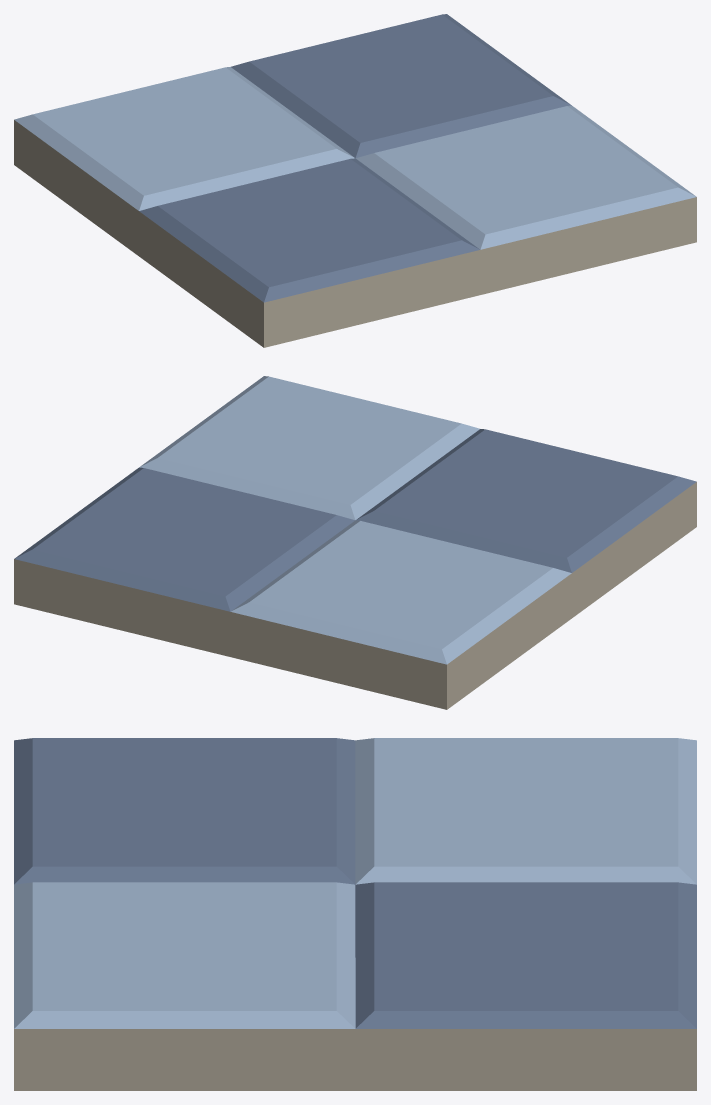
File: Mesh_GroundCeramic_N1.fbx
The picture shows the model from 3 angles, top to bottom: view 1: azimuth 30°, elevation 25°; view 2: azimuth 150°, elevation 25°; view 3: azimuth 270°, elevation 25°; orthographic projection. The views are drawn at different scales.
Visible parts, largest first — view 1: Mesh_GroundCeramic_N1; view 2: Mesh_GroundCeramic_N1; view 3: Mesh_GroundCeramic_N1.
Part boxes in pixels (box(x1,y1,x2,y2)): Mesh_GroundCeramic_N1: box(14, 14, 696, 347); Mesh_GroundCeramic_N1: box(14, 376, 696, 709); Mesh_GroundCeramic_N1: box(14, 738, 696, 1090).
Bounding box in the file's own units: 1 × 0.1164 × 1.
